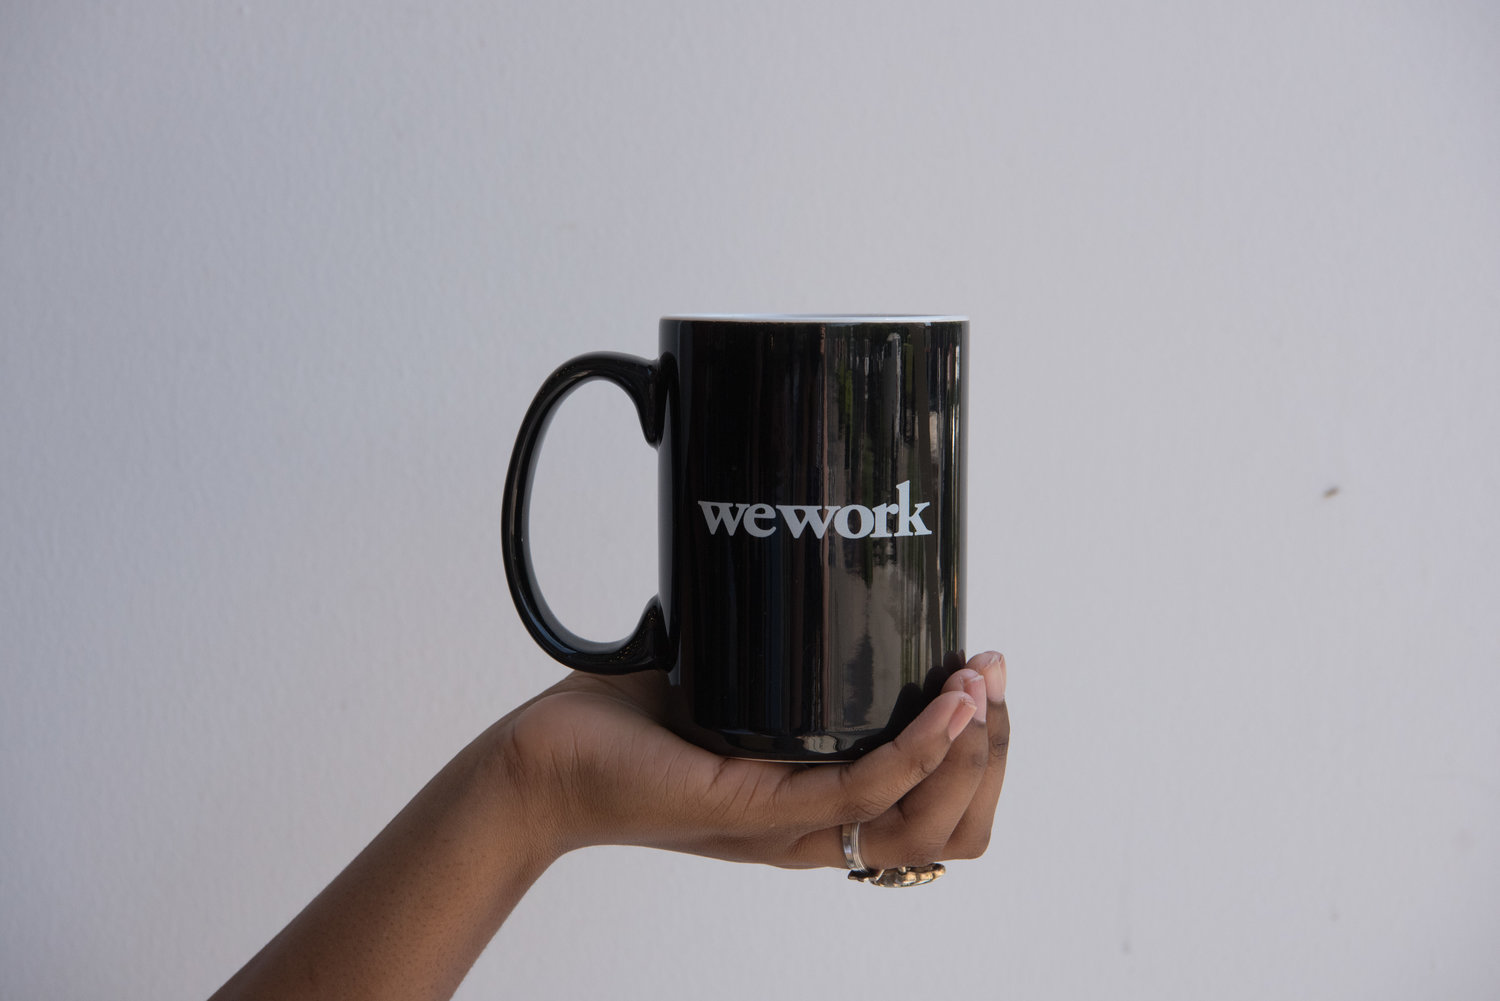wework: (694, 475, 936, 543)
